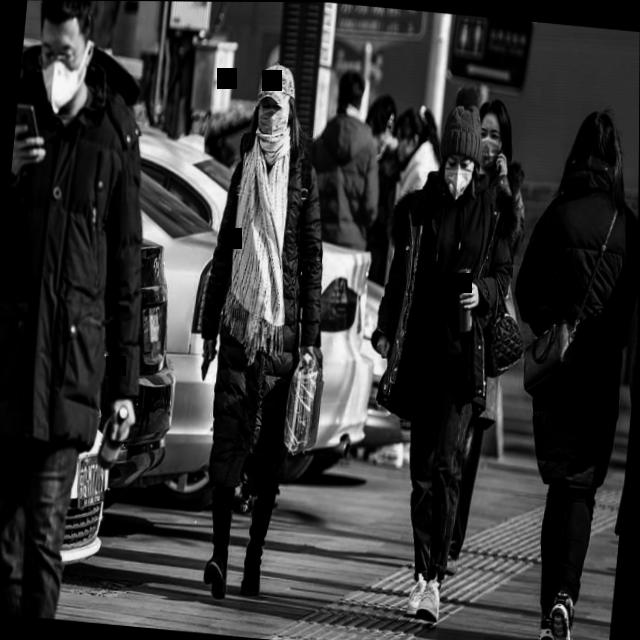Mask: (23, 0, 105, 117), (425, 80, 485, 208), (245, 56, 303, 153), (468, 92, 516, 187)
NO-Mask: (387, 95, 425, 168)
